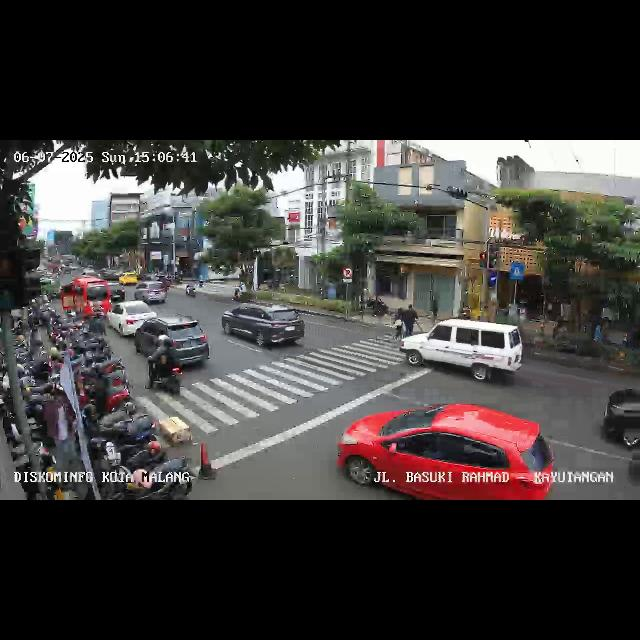car: (338, 402, 554, 500), (400, 318, 522, 384), (134, 316, 212, 370), (222, 303, 306, 351), (599, 383, 639, 455), (60, 279, 110, 321), (108, 302, 156, 336), (134, 280, 168, 304), (108, 280, 126, 302)
motorcycle: (146, 334, 182, 394), (185, 277, 198, 299), (232, 282, 244, 302)
